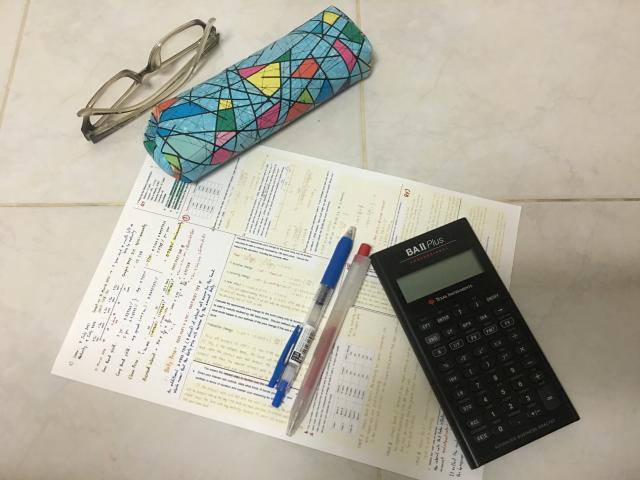Glasses: (78, 19, 219, 142)
Pen: (265, 226, 356, 408), (286, 244, 370, 436)
paper: (47, 122, 523, 480)
